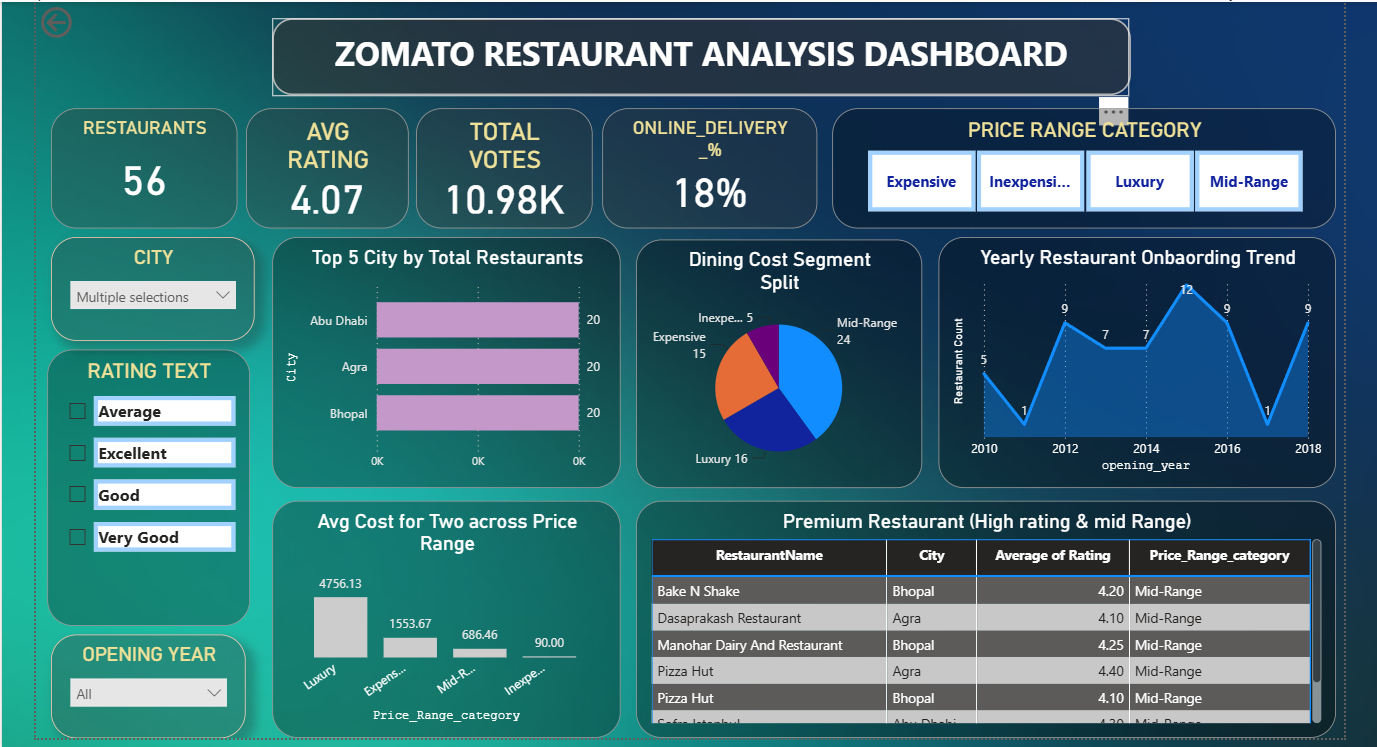

Layout of this report page (visuals, bound fields, positions):
{"tool":"powerbi","page":{"name":"Zomato_Restaurant","canvas":[1280,720],"ordinal":0},"visuals":[{"type":"card","title":"RESTAURANTS","fields":{"Values":["Zomato_Restaurant.Total_Restaurant"]},"box":[14.7,103.9,182.2,117.4],"z":0},{"type":"textbox","box":[230.5,16.5,839.8,75.5],"z":1000},{"type":"card","title":"AVG RATING","fields":{"Values":["Avg(Zomato_Restaurant.Rating)"]},"box":[205.4,103.9,159,117.4],"z":2000},{"type":"card","title":"TOTAL VOTES","fields":{"Values":["Zomato_Restaurant.Total_engagement"]},"box":[371.7,103.9,172.4,117.4],"z":3000},{"type":"card","title":"ONLINE_DELIVERY_%","fields":{"Values":["Zomato_Restaurant.Online_Delivery"]},"box":[553.9,103.9,210.3,117.4],"z":4000},{"type":"slicer","title":"CITY","fields":{"Values":["Zomato_Restaurant.City"]},"box":[14.7,229.9,199.3,101.5],"z":5000},{"type":"slicer","title":"PRICE RANGE CATEGORY","fields":{"Values":["Zomato_Restaurant.Price_Range_category"]},"box":[778.9,103.9,492.8,117.4],"z":6000},{"type":"slicer","title":"RATING TEXT","fields":{"Values":["Zomato_Restaurant.Rating_Text"]},"box":[11,339.9,198.1,270.2],"z":7000},{"type":"slicer","title":"OPENING YEAR","fields":{"Values":["Zomato_Restaurant.opening_year"]},"box":[14.7,618.8,190.8,101.5],"z":8000},{"type":"barChart","title":" Top 5 City by Total Restaurants","fields":{"Category":["Zomato_Restaurant.City"],"Y":["CountNonNull(Zomato_Restaurant.RestaurantID)"]},"box":[231.1,229.9,341.2,245.8],"z":9000},{"type":"pieChart","title":" Dining Cost Segment Split","fields":{"Category":["Zomato_Restaurant.Price_Range_category"],"Y":["CountNonNull(Zomato_Restaurant.RestaurantID)"]},"box":[587,232.3,280,243.3],"z":10000},{"type":"areaChart","title":"Yearly Restaurant Onbaording Trend","fields":{"Category":["Zomato_Restaurant.opening_year"],"Y":["CountNonNull(Zomato_Restaurant.RestaurantID)"]},"box":[882.9,229.9,388.9,245.8],"z":11000},{"type":"clusteredColumnChart","title":"Avg Cost for Two across Price Range","fields":{"Category":["Zomato_Restaurant.Price_Range_category"],"Y":["Avg(Zomato_Restaurant.Average_Cost_for_two_INR)"]},"box":[231.1,487.9,341.2,232.3],"z":12000},{"type":"tableEx","title":"Premium Restaurant (High rating  & mid Range)","fields":{"Values":["Zomato_Restaurant.RestaurantName","Zomato_Restaurant.City","Avg(Zomato_Restaurant.Rating)","Zomato_Restaurant.Price_Range_category"]},"box":[587.3,488.5,684.7,231.9],"z":13000},{"type":"actionButton","box":[0,0,100,40],"z":14000}]}

Visuals, with their boxes on the page's 1280x720 design canvas (x1, y1, x2, y2). These are canvas units, not pixel positions in the 1377x747 screenshot, which may show the page scaled, cropped or inside an application window:
"RESTAURANTS" card: rect(15, 104, 197, 221)
textbox: rect(230, 16, 1070, 92)
"AVG RATING" card: rect(205, 104, 364, 221)
"TOTAL VOTES" card: rect(372, 104, 544, 221)
"ONLINE_DELIVERY_%" card: rect(554, 104, 764, 221)
"CITY" slicer: rect(15, 230, 214, 331)
"PRICE RANGE CATEGORY" slicer: rect(779, 104, 1272, 221)
"RATING TEXT" slicer: rect(11, 340, 209, 610)
"OPENING YEAR" slicer: rect(15, 619, 206, 720)
" Top 5 City by Total Restaurants" barChart: rect(231, 230, 572, 476)
" Dining Cost Segment Split" pieChart: rect(587, 232, 867, 476)
"Yearly Restaurant Onbaording Trend" areaChart: rect(883, 230, 1272, 476)
"Avg Cost for Two across Price Range" clusteredColumnChart: rect(231, 488, 572, 720)
"Premium Restaurant (High rating  & mid Range)" tableEx: rect(587, 488, 1272, 720)
actionButton: rect(0, 0, 100, 40)
